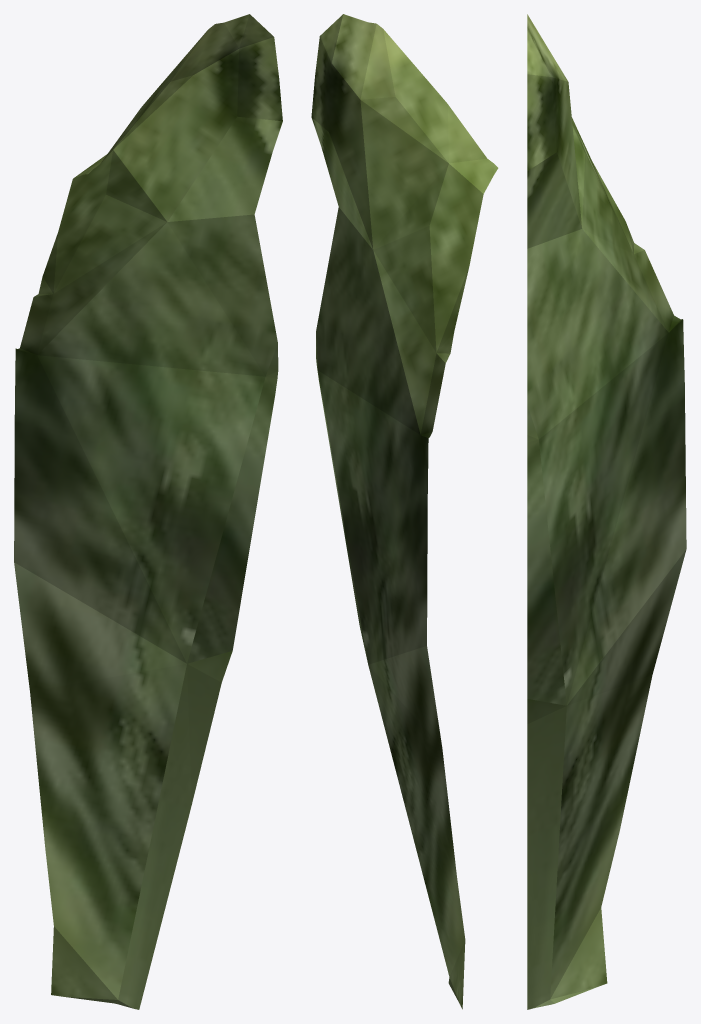
3 renders of one model, left to right at view 1: azimuth 30°, elevation 25°; view 2: azimuth 150°, elevation 25°; view 3: azimuth 270°, elevation 25°, orthographic. The views are drawn at different scales.
Size of the model in its own units: 0.5151 by 2.45 by 0.3411.
Materials: 1 (1 with a texture image).
